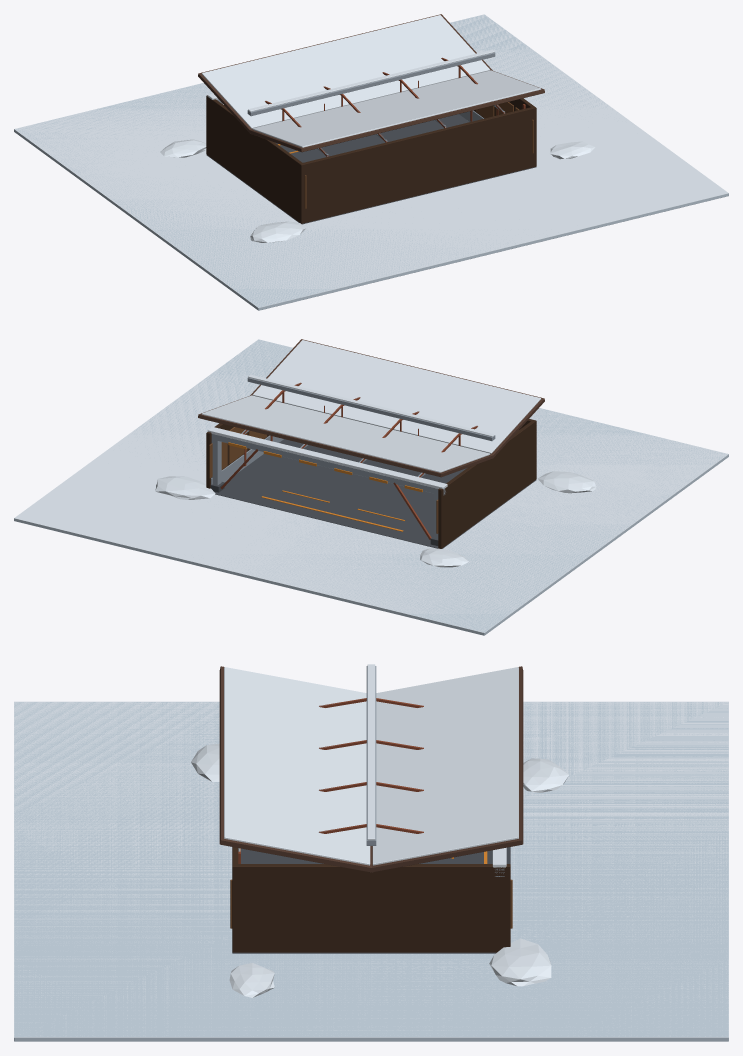
Rendered from MenuStorageHall.fbx.
The picture shows the model from 3 angles, top to bottom: view 1: azimuth 30°, elevation 25°; view 2: azimuth 150°, elevation 25°; view 3: azimuth 270°, elevation 25°; orthographic projection. The views are drawn at different scales.
Visible parts, largest first — view 1: MenuStorageHall; view 2: MenuStorageHall; view 3: MenuStorageHall.
Part boxes in pixels (bbox=[...]): MenuStorageHall: bbox=[14, 14, 728, 310]; MenuStorageHall: bbox=[14, 339, 728, 635]; MenuStorageHall: bbox=[14, 664, 728, 1041].
Size of the model in its own units: 4000 by 683 by 3600.
